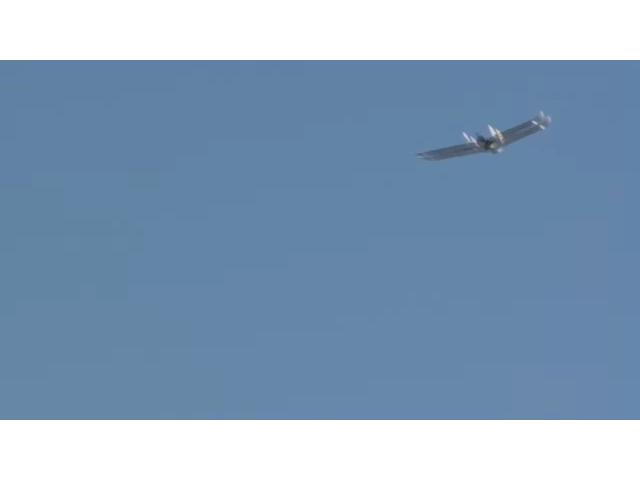Anti-Drone: (419, 113, 547, 163)
